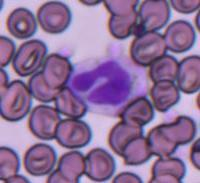N: (68, 55, 148, 117)
